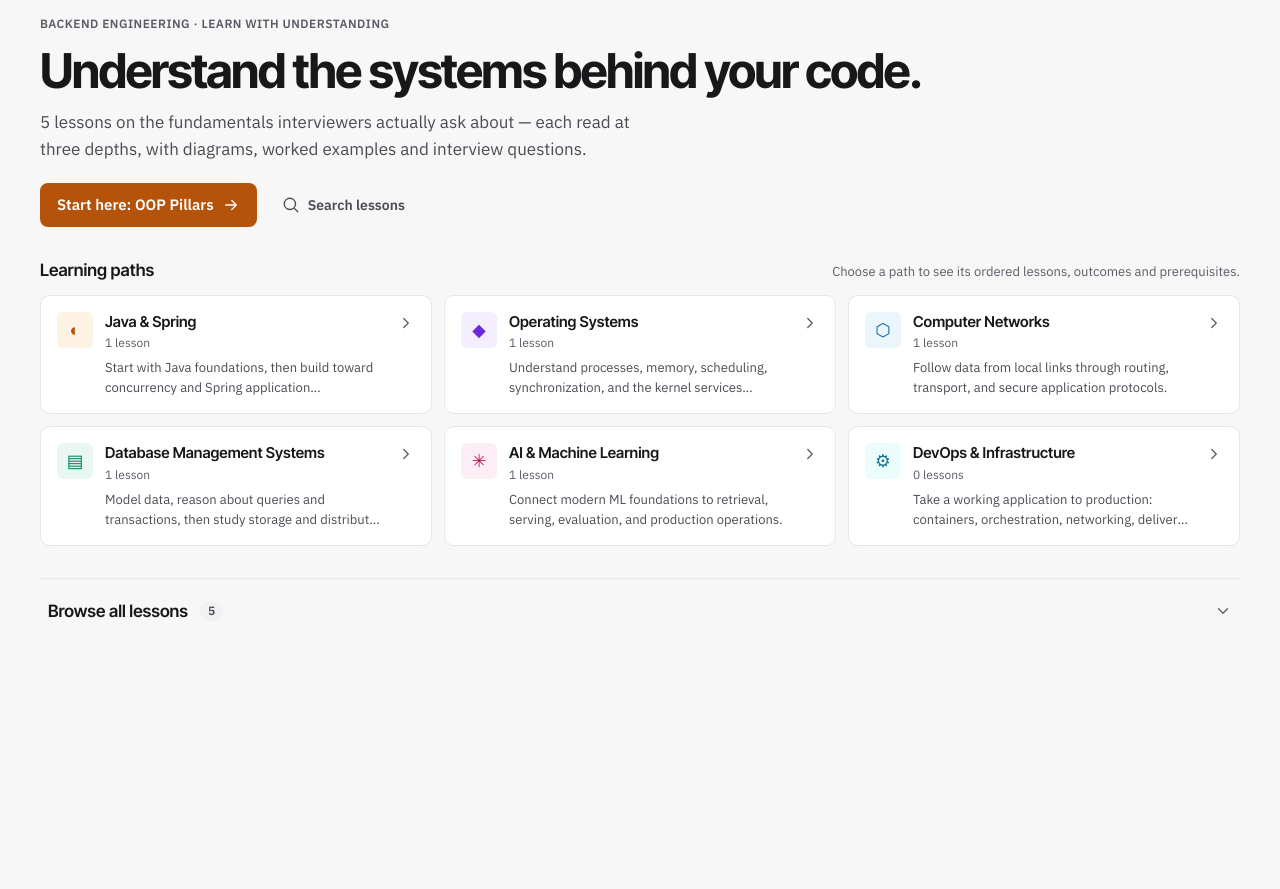
Test case: HomePage › renders the level badge and ordered topic row
The image size is (1280, 889).
Click the button "Browse all lessons 5" at (118, 611), box [40,587,1240,635]
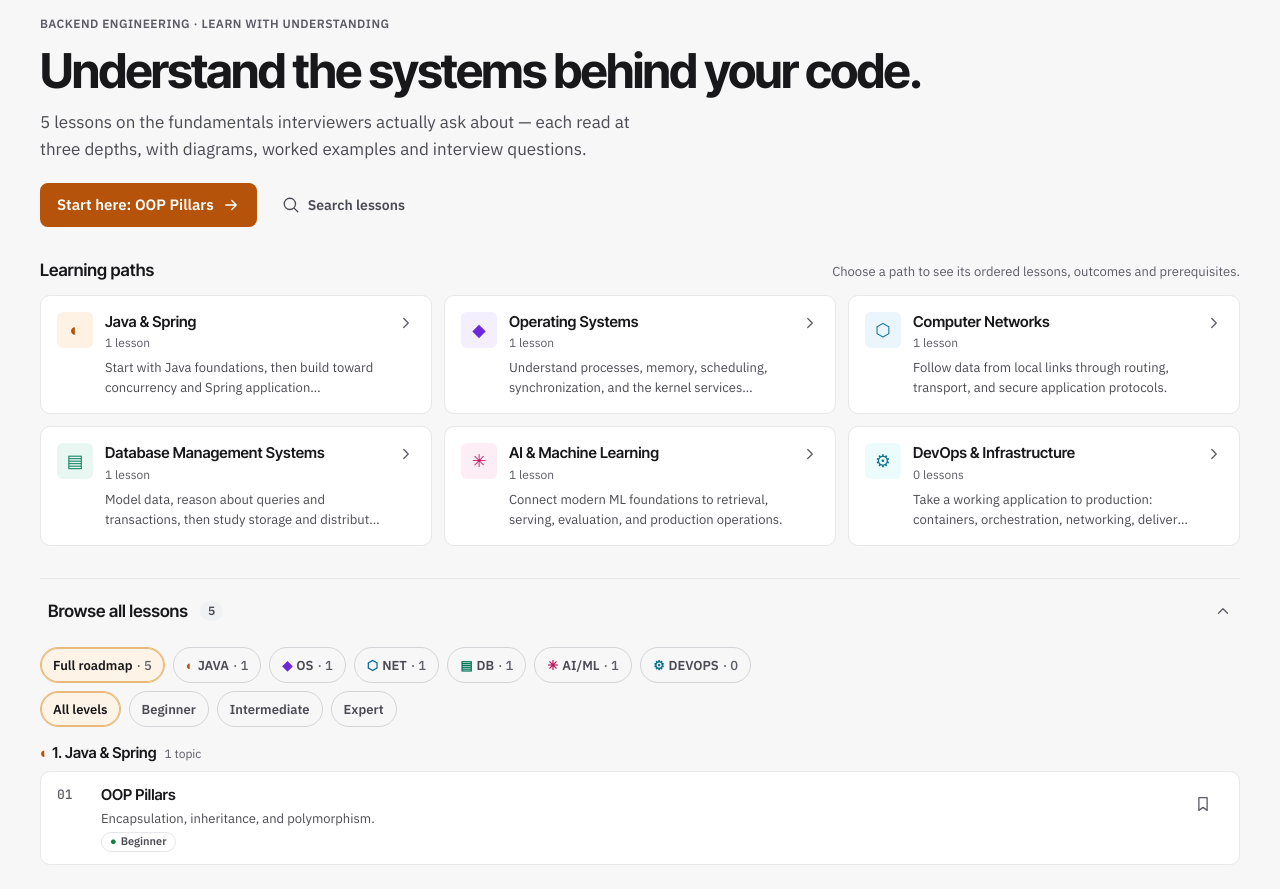
Expected: the link "OOP Pillars" is shown, [101,785,176,804]
Expected: the element named "Beginner level" reads "● Beginner", [101,832,176,852]
Expected: the text "01" is shown, [57,786,73,803]
